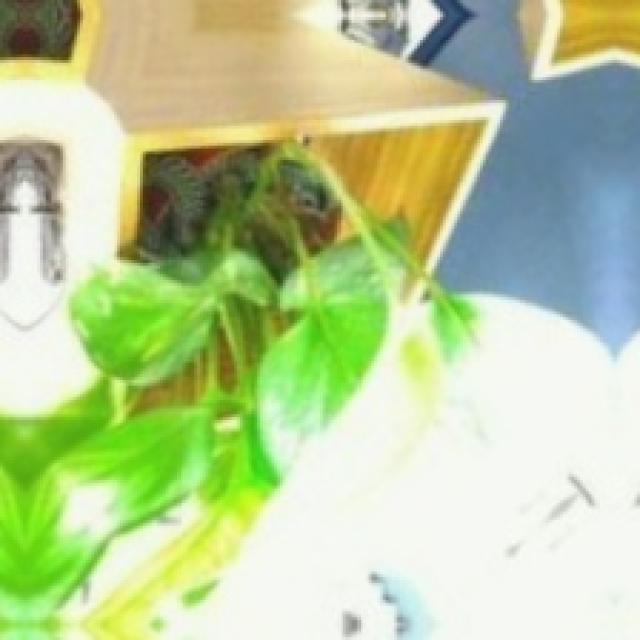paradise tree snake: (138, 146, 272, 259), (284, 164, 339, 245)
